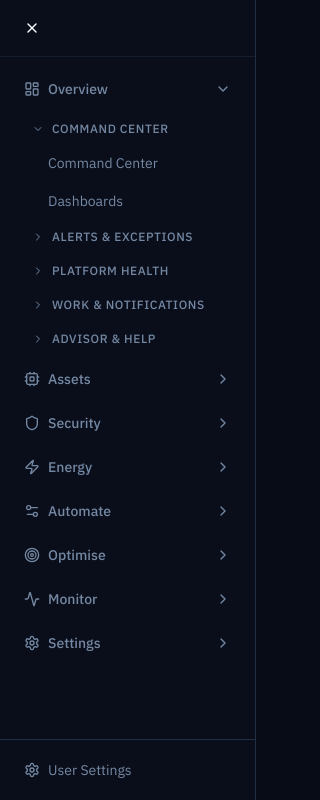
Navigation Highlighting Integration Tests › should expand and collapse feature areas correctly
The image size is (320, 800).
Check: the button "posture & dashboards" is not shown
Note: Click to expand
Step 1. Click the button "Security" → [128, 423], box top-left (12, 403), bottom-right (243, 443)
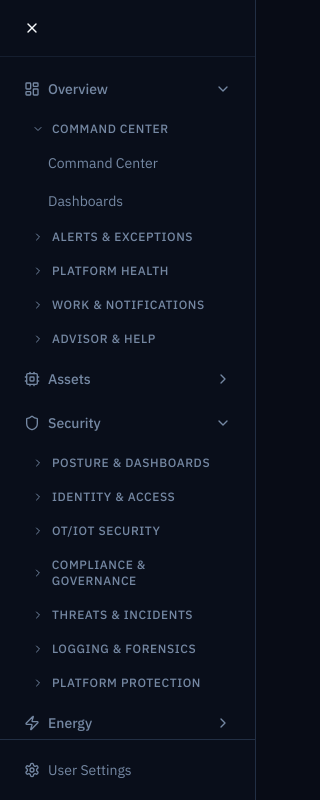
Check: the button "Posture & Dashboards" is shown, box top-left (20, 447), bottom-right (243, 479)
Check: the button "Identity & Access" is shown, box top-left (20, 481), bottom-right (243, 513)
Check: the button "OT/IoT Security" is shown, box top-left (20, 515), bottom-right (243, 547)
Note: Click to collapse
Step 2. Click the button "Security" → [128, 423], box top-left (12, 403), bottom-right (243, 443)
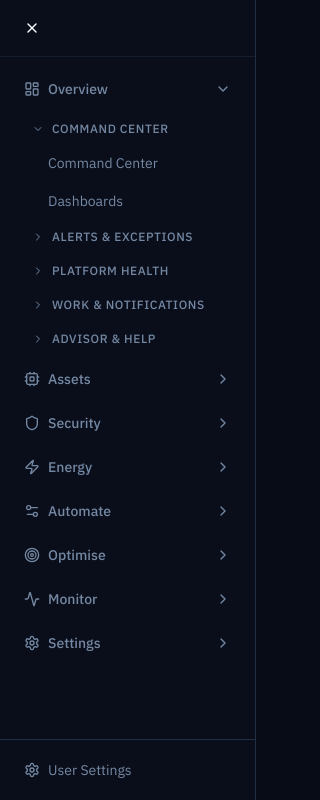
Check: the button "Posture & Dashboards" is gone
